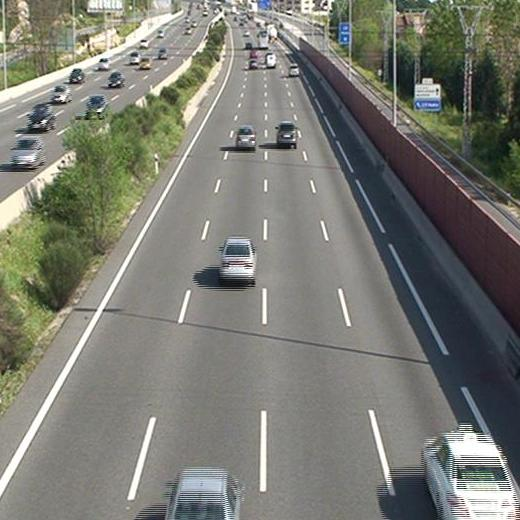car: (423, 432, 520, 520), (220, 239, 255, 282), (276, 123, 297, 145), (237, 126, 256, 150), (289, 63, 300, 78), (247, 59, 257, 70)
van: (267, 55, 277, 69)
